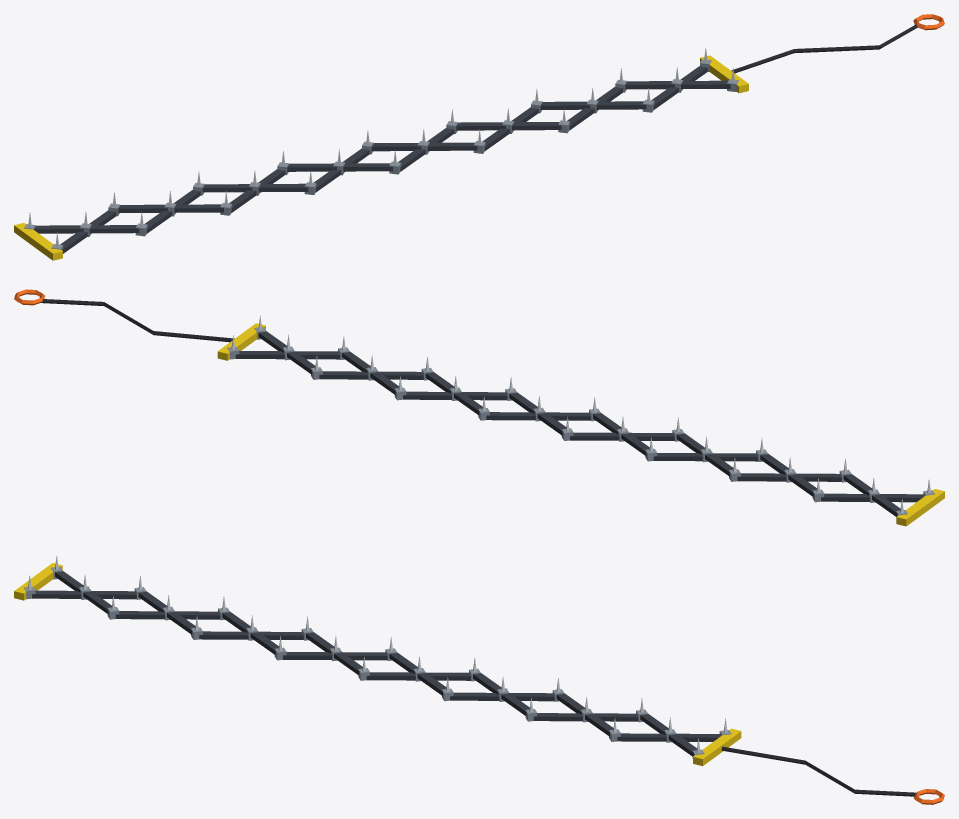
Rendered from spike_strip.glb.
3 views of the same model, one above another, from view 1: azimuth 30°, elevation 25°; view 2: azimuth 150°, elevation 25°; view 3: azimuth 330°, elevation 25° (orthographic).
Visible parts, largest first — view 1: Strip; view 2: Strip; view 3: Strip.
Part boxes in pixels (<box>): Strip: <box>14,14,944,260</box>; Strip: <box>14,289,944,526</box>; Strip: <box>14,555,944,804</box>.
Bounding box in the file's own units: 5.41 × 0.1375 × 0.4.
